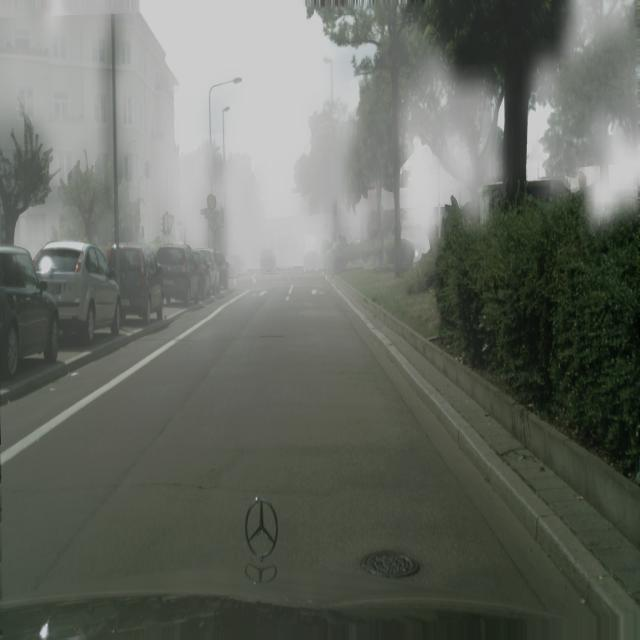person: (33, 239, 122, 344), (0, 245, 60, 379), (106, 242, 165, 326), (155, 244, 202, 306), (196, 248, 221, 297), (192, 249, 208, 300), (213, 250, 230, 292), (303, 248, 325, 272), (260, 252, 277, 274), (226, 254, 238, 278)
